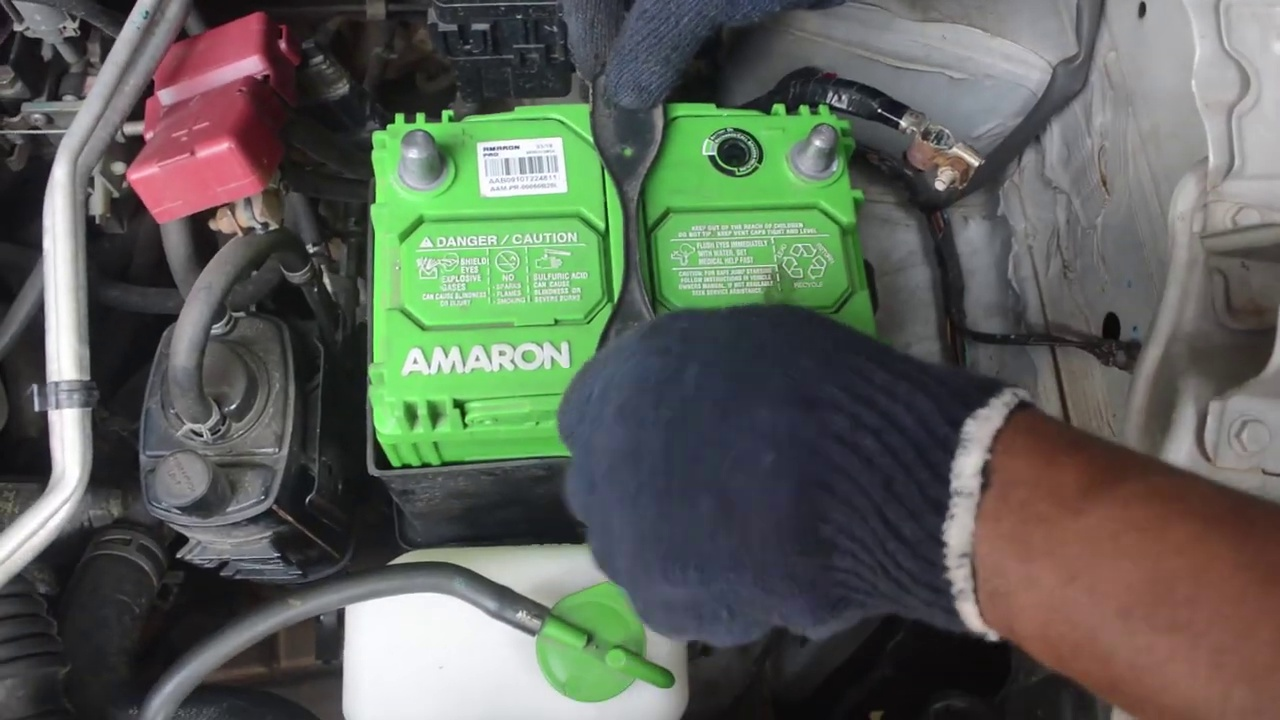battery: (356, 110, 859, 425)
neg_disconnected: (762, 114, 875, 209)
pos_disconnected: (126, 46, 480, 225)
